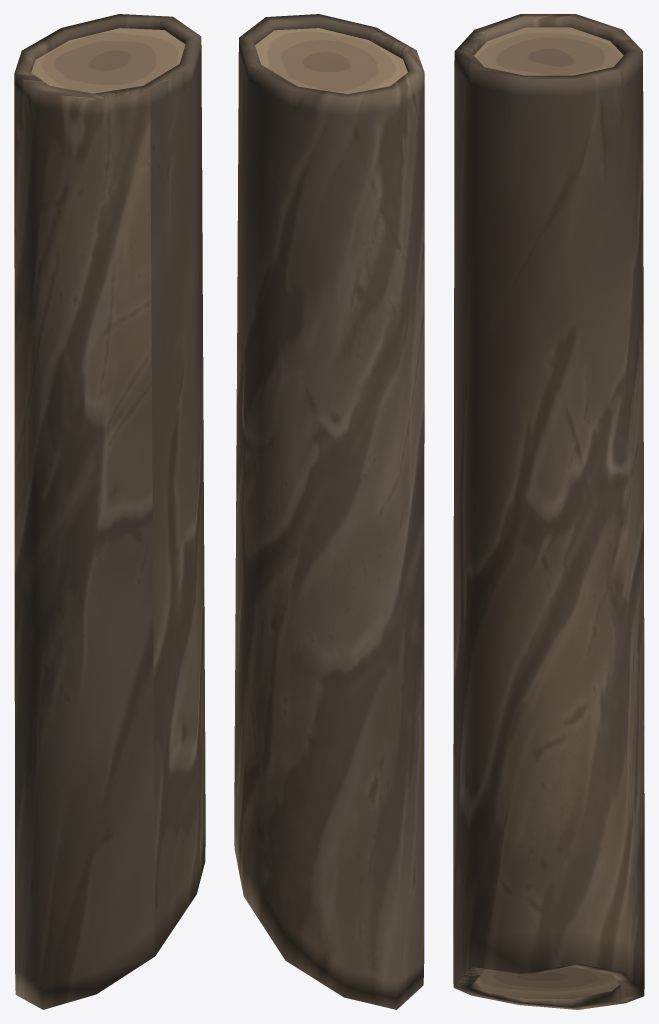
The model's file is stick_short.fbx.
The picture shows the model from 3 angles, left to right: view 1: azimuth 30°, elevation 25°; view 2: azimuth 150°, elevation 25°; view 3: azimuth 270°, elevation 25°; orthographic projection. The views are drawn at different scales.
Visible parts, largest first — view 1: Cylinder.020; view 2: Cylinder.020; view 3: Cylinder.020.
Boxes of the visible parts, <box> form: Cylinder.020: <box>14,14,205,1009</box>; Cylinder.020: <box>234,14,424,1009</box>; Cylinder.020: <box>453,14,644,1009</box>.
Size of the model in its own units: 6.27 by 34.08 by 5.84.
